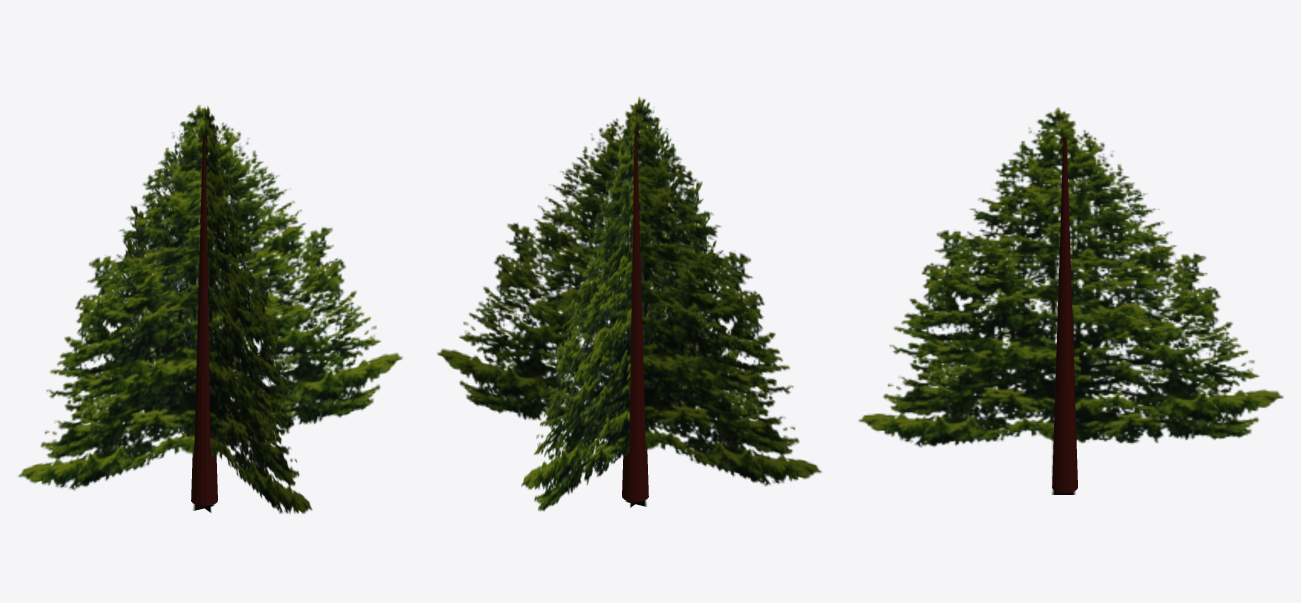
The model's file is fir_psx.glb.
The picture shows the model from 3 angles, left to right: view 1: azimuth 30°, elevation 25°; view 2: azimuth 150°, elevation 25°; view 3: azimuth 270°, elevation 25°; orthographic projection. The views are drawn at different scales.
Parts seen in each view (by area): view 1: Leaves1.001, Leaves2.001, Trunk; view 2: Leaves1.001, Leaves2.001, Trunk; view 3: Leaves2.001, Trunk.
Part boxes in pixels (<box>): Leaves1.001: <box>18,105,402,510</box>; Leaves2.001: <box>92,106,312,513</box>; Trunk: <box>191,134,217,505</box>; Leaves1.001: <box>437,101,821,506</box>; Leaves2.001: <box>521,96,739,511</box>; Trunk: <box>622,130,648,501</box>; Leaves2.001: <box>858,107,1283,494</box>; Trunk: <box>1052,137,1077,492</box>.
Size of the model in its own units: 10.4 by 10.4 by 10.4.
Materials: 3 (2 with a texture image).
